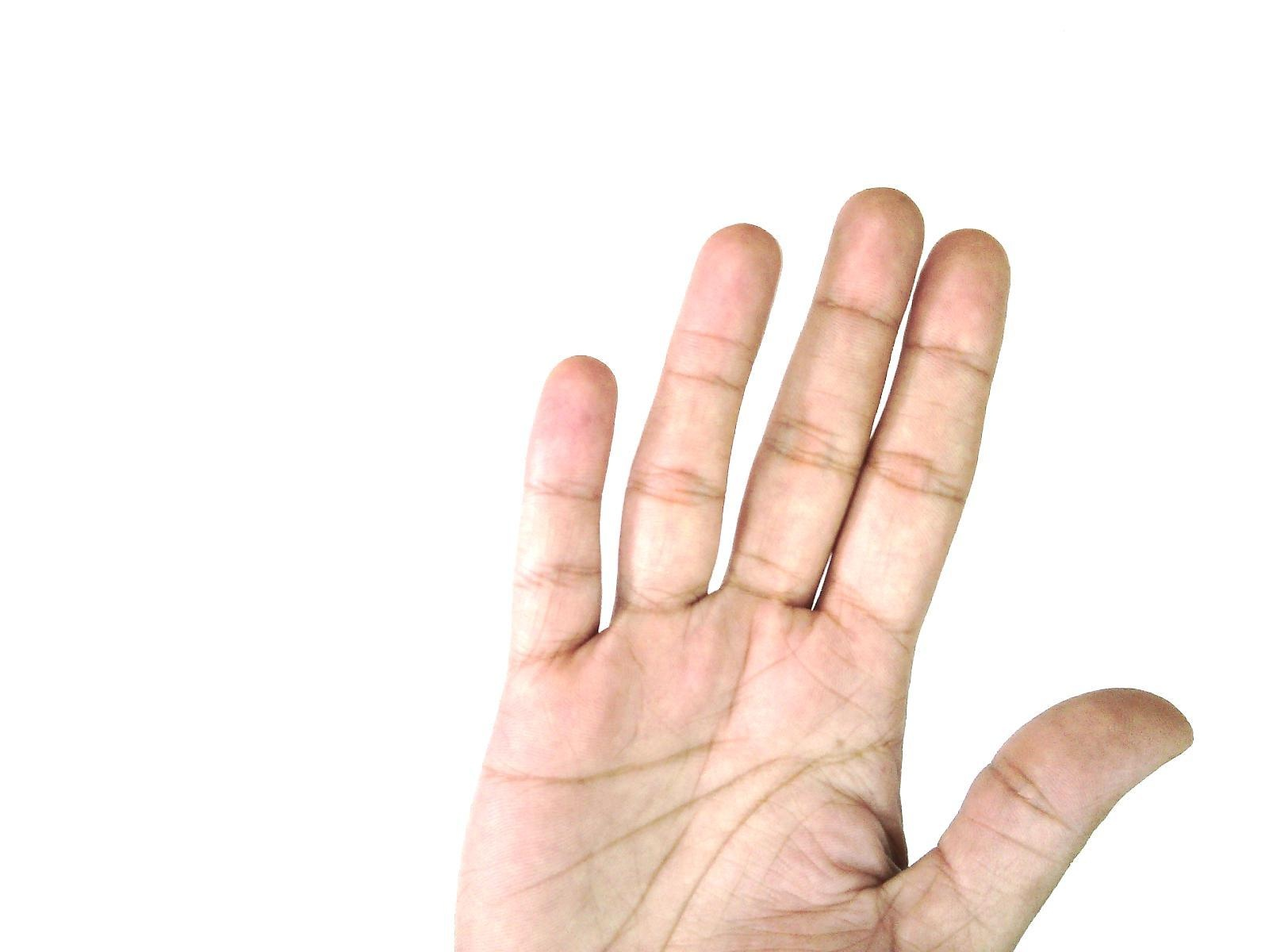open_palm: (450, 186, 1196, 952)
